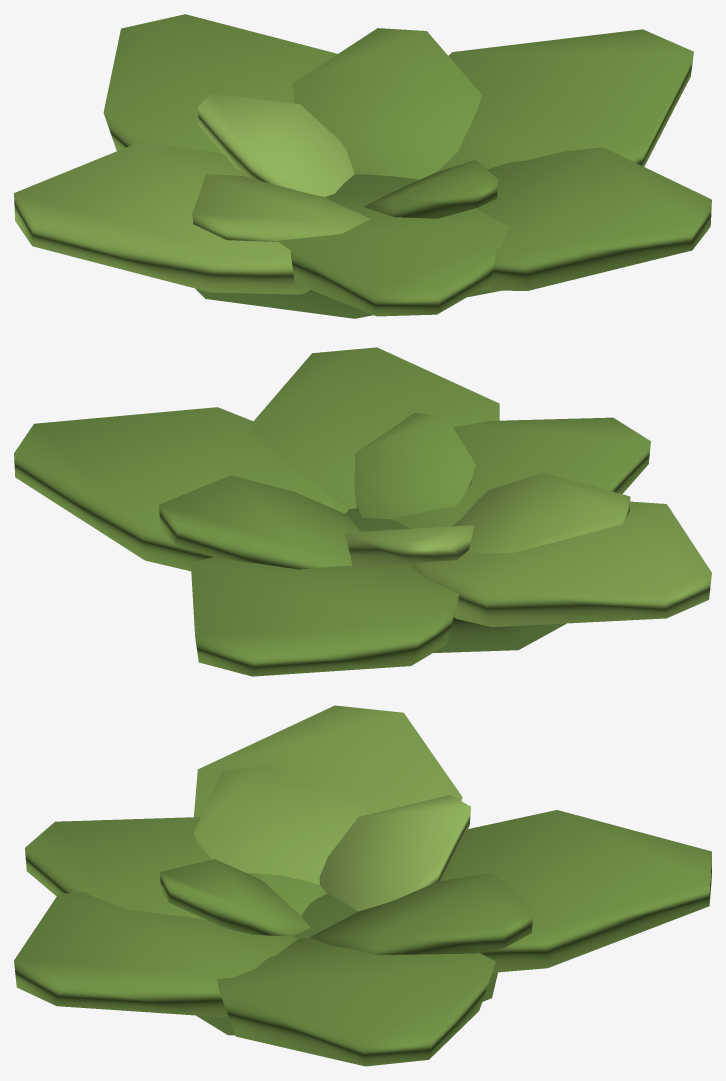
Rendered from large_hero_carpet_a.glb.
The picture shows the model from 3 angles, top to bottom: view 1: azimuth 30°, elevation 25°; view 2: azimuth 150°, elevation 25°; view 3: azimuth 270°, elevation 25°; orthographic projection. The views are drawn at different scales.
Visible parts, largest first — view 1: large_hero_carpet_a; view 2: large_hero_carpet_a; view 3: large_hero_carpet_a.
Boxes of the visible parts, x1=… form: large_hero_carpet_a: x1=14, y1=14, x2=711, y2=318; large_hero_carpet_a: x1=14, y1=347, x2=711, y2=676; large_hero_carpet_a: x1=14, y1=705, x2=711, y2=1066.
Bounding box in the file's own units: 0.4756 × 0.0734 × 0.4236.
